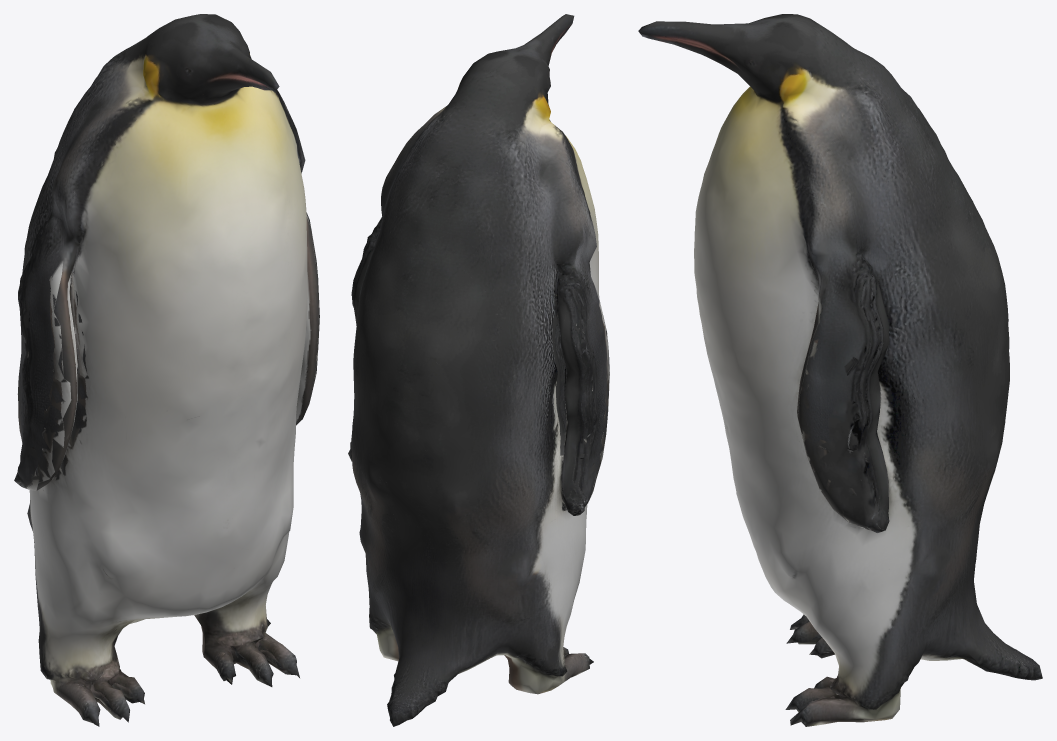
File: asset.gltf
3 views of the same model, side by side, from view 1: azimuth 30°, elevation 25°; view 2: azimuth 150°, elevation 25°; view 3: azimuth 270°, elevation 25° (orthographic). The views are drawn at different scales.
Parts seen in each view (by area): view 1: Meshy_Mesh1.0; view 2: Meshy_Mesh1.0; view 3: Meshy_Mesh1.0.
Part boxes in pixels (x1,y1,x2,y2): Meshy_Mesh1.0: [14, 14, 319, 726]; Meshy_Mesh1.0: [348, 14, 609, 726]; Meshy_Mesh1.0: [638, 14, 1042, 726].
Size of the model in its own units: 0.8133 by 1.91 by 1.06.
1 material, 1 textured.
